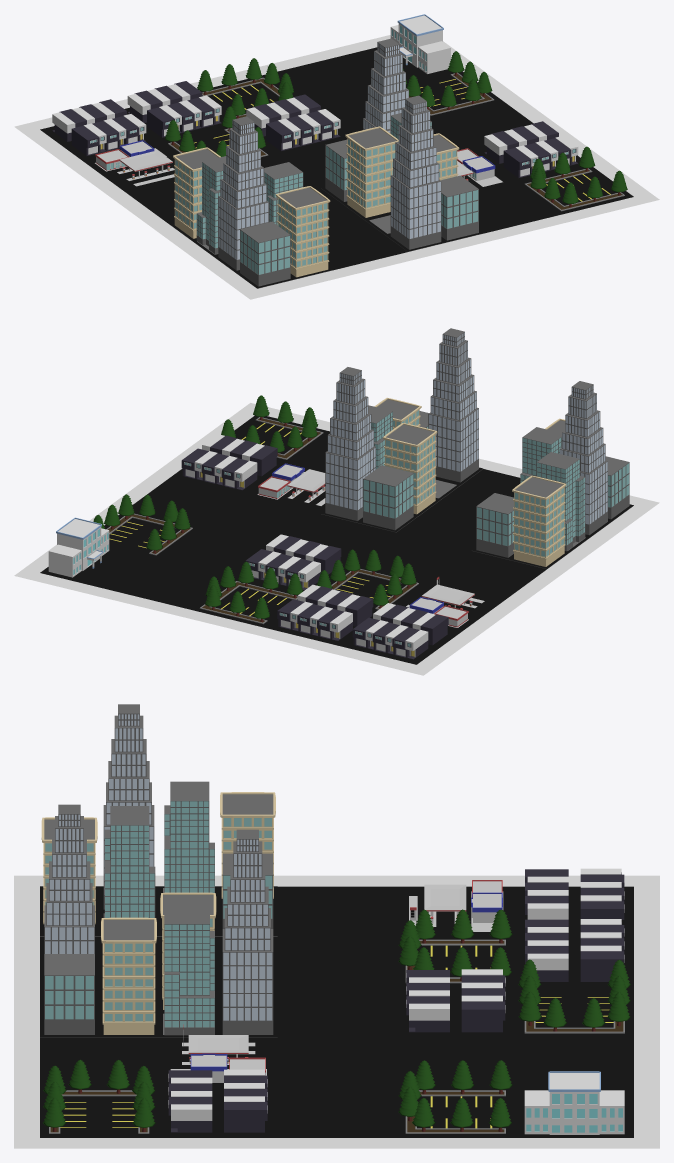
The model's file is rock_kicking_city_ground.glb.
The picture shows the model from 3 angles, top to bottom: view 1: azimuth 30°, elevation 25°; view 2: azimuth 150°, elevation 25°; view 3: azimuth 270°, elevation 25°; orthographic projection. The views are drawn at different scales.
Visible parts, largest first — view 1: PlaneRoadCity.003, GrassTransition, PlaneRoadCity, PlaneRoadCity.002, PlaneRoad.002, PlaneRoadCity.001, PlaneTownHouse, PlaneTownHouse.002, PlaneTownHouse.003, PlaneTownHouse.001, PlaneHospital, PlaneGasStation (+14 smaller); view 2: PlaneRoad.002, PlaneRoadCity.002, GrassTransition, PlaneRoadCity.001, PlaneRoadCity, PlaneRoadCity.003, PlaneHospital, PlaneTownHouse, PlaneTownHouse.003, PlaneTownHouse.001, PlaneTownHouse.002, PlaneRoad (+14 smaller); view 3: PlaneRoad.002, GrassTransition, PlaneRoadCity.002, PlaneRoadCity, PlaneRoadCity.003, PlaneRoadCity.001, PlaneTownHouse.003, PlaneTownHouse.002, PlaneHospital, PlaneTownHouse.001, PlaneTownHouse, PlaneRoad (+14 smaller).
Part boxes in pixels (x1,y1,x2,y2): PlaneRoadCity.003: (214, 116, 332, 288); GrassTransition: (14, 35, 659, 299); PlaneRoadCity: (365, 95, 483, 251); PlaneRoadCity.002: (321, 38, 431, 219); PlaneRoad.002: (127, 101, 533, 224); PlaneRoadCity.001: (170, 147, 225, 256); PlaneTownHouse: (40, 99, 157, 161); PlaneTownHouse.002: (246, 94, 347, 156); PlaneTownHouse.003: (473, 121, 580, 183); PlaneTownHouse.001: (124, 81, 223, 142); PlaneHospital: (341, 14, 450, 82); PlaneGasStation: (83, 140, 174, 193); PlaneRoad.002: (132, 477, 546, 600); PlaneRoadCity.002: (321, 367, 439, 532); GrassTransition: (14, 403, 659, 675); PlaneRoadCity.001: (472, 452, 590, 569); PlaneRoadCity: (374, 328, 483, 500); PlaneRoadCity.003: (520, 381, 633, 536); PlaneHospital: (40, 517, 158, 591); PlaneTownHouse: (341, 603, 459, 664); PlaneTownHouse.003: (170, 434, 288, 495); PlaneTownHouse.001: (266, 584, 374, 646); PlaneTownHouse.002: (234, 534, 345, 590); PlaneRoad: (115, 559, 222, 609); PlaneRoad.002: (277, 886, 396, 1137); GrassTransition: (14, 875, 659, 1148); PlaneRoadCity.002: (158, 829, 277, 1037); PlaneRoadCity: (40, 804, 158, 1037); PlaneRoadCity.003: (40, 704, 158, 936); PlaneRoadCity.001: (158, 781, 277, 936); PlaneTownHouse.003: (158, 1069, 277, 1137); PlaneTownHouse.002: (396, 969, 515, 1037); PlaneHospital: (515, 1071, 633, 1137); PlaneTownHouse.001: (515, 919, 633, 987); PlaneTownHouse: (515, 868, 633, 936); PlaneRoad: (515, 1037, 633, 1087).
Bounding box in the file's own units: 500 × 165 × 500.
